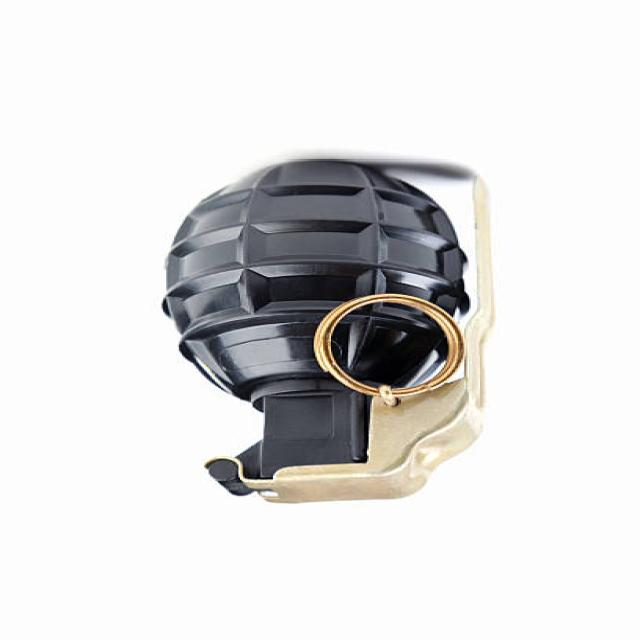grenade: (145, 159, 512, 514)
